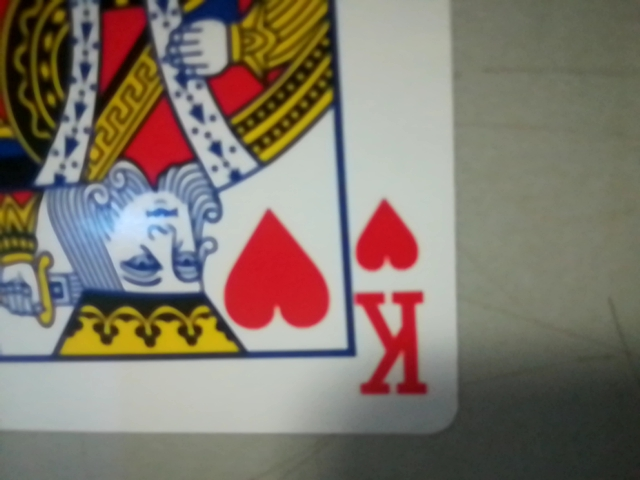hx k: (339, 192, 450, 410)
